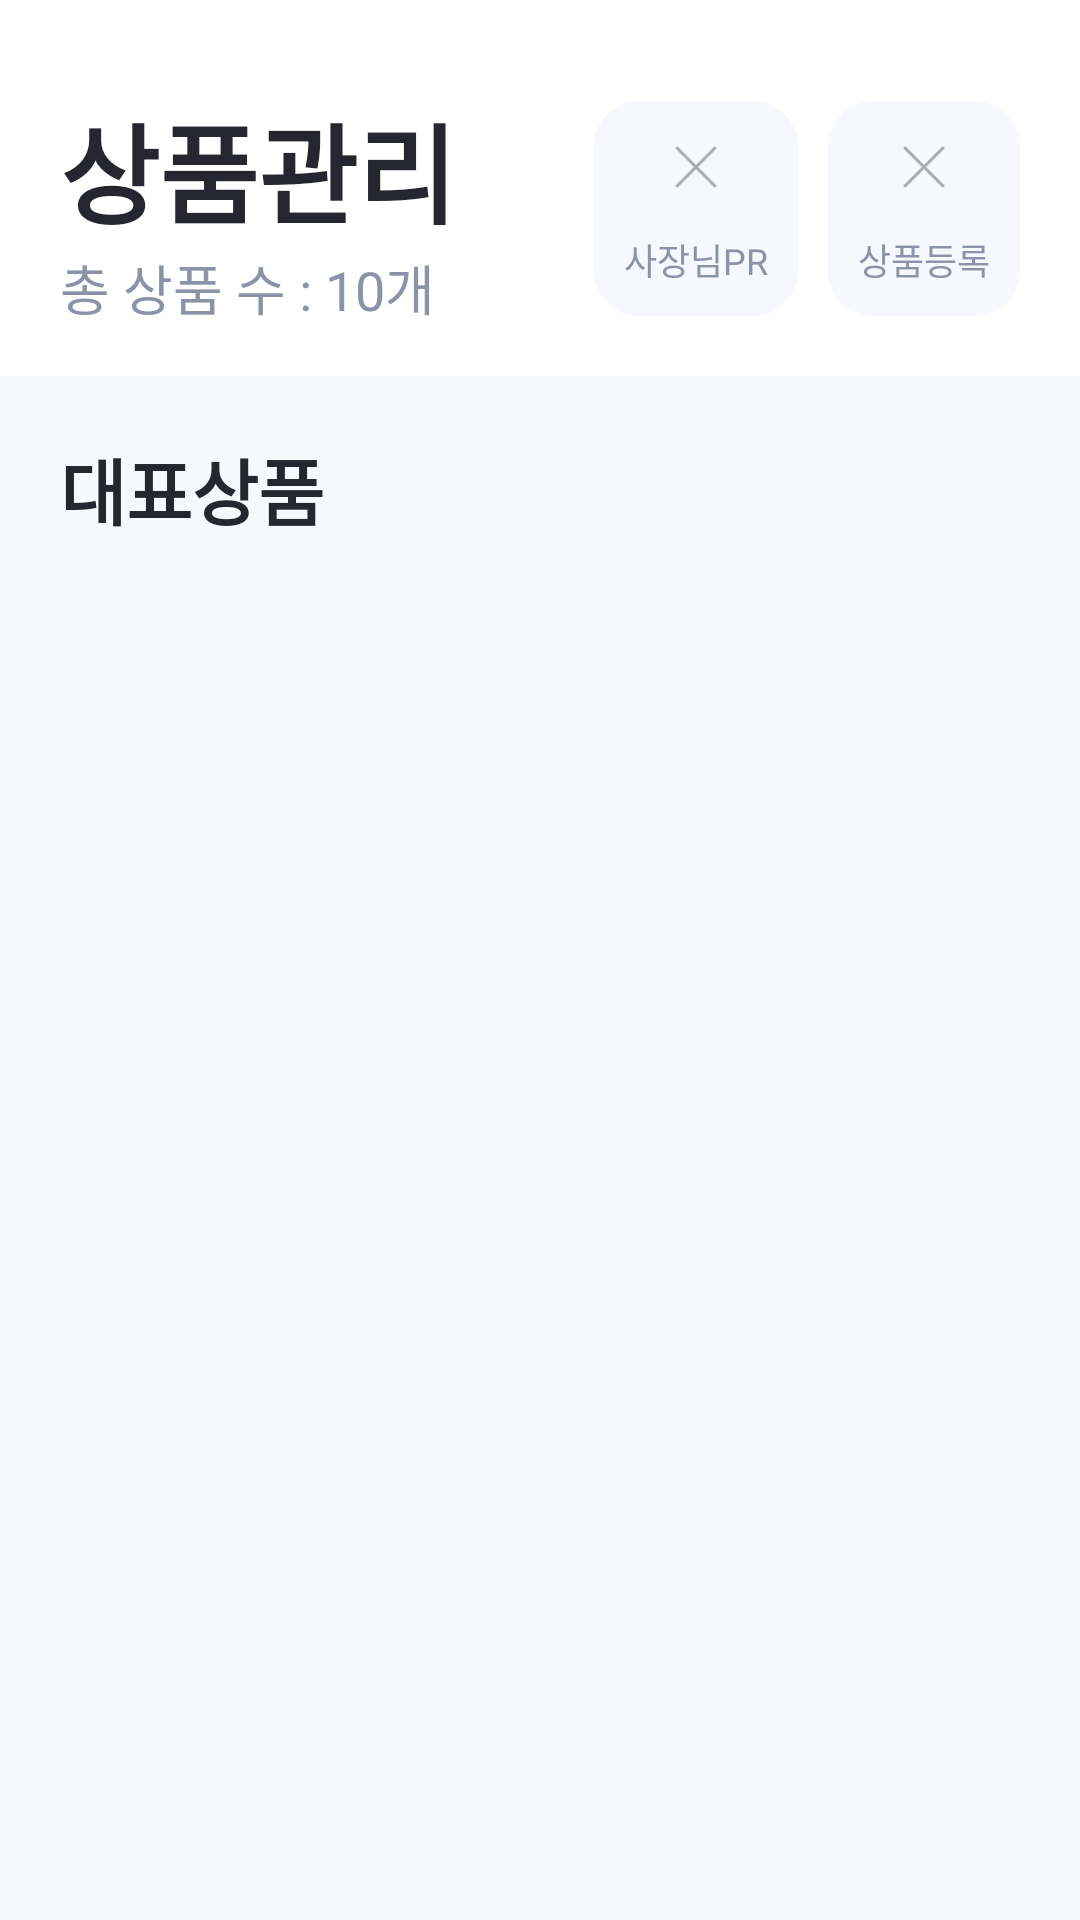

Icon click points for this 1080px×1920px phone screenshot, format point (x, y):
close: point (696, 167), point (924, 167)
